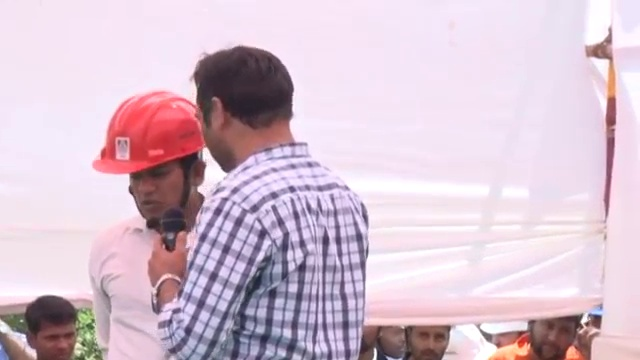helmet: (91, 89, 208, 178), (440, 322, 499, 360)
helmet_off: (194, 52, 300, 178), (24, 303, 81, 358), (526, 315, 586, 355), (405, 327, 453, 360), (369, 324, 411, 360)
helmet_on: (91, 88, 212, 227)
person: (154, 50, 372, 352), (63, 88, 213, 346), (493, 312, 592, 358)
